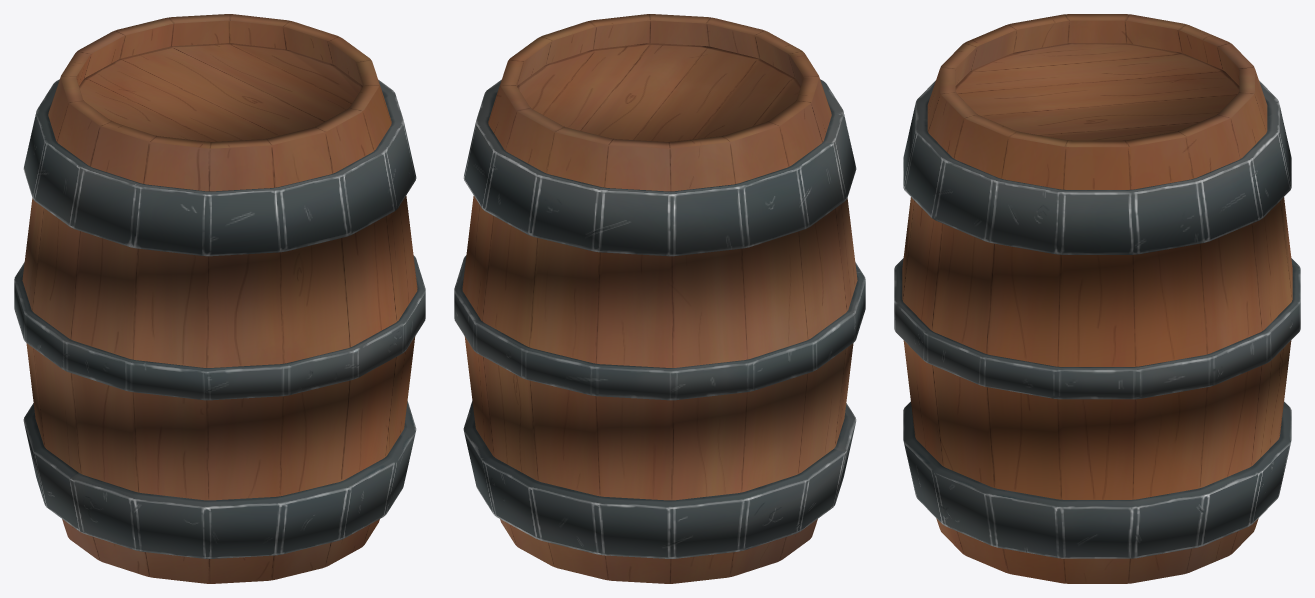
Rendered from barrel.gltf.
3 renders of one model, left to right at view 1: azimuth 30°, elevation 25°; view 2: azimuth 150°, elevation 25°; view 3: azimuth 270°, elevation 25°, orthographic.
Parts seen in each view (by area): view 1: Barrel low; view 2: Barrel low; view 3: Barrel low.
Part boxes in pixels (x1,y1,x2,y2): Barrel low: (14, 14, 425, 583); Barrel low: (454, 14, 865, 583); Barrel low: (894, 14, 1300, 583).
Size of the model in its own units: 2.53 by 3 by 2.53.
Materials: 1 (1 with a texture image).
